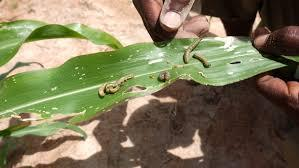fallarmy_worm: (95, 76, 134, 97), (182, 35, 199, 64), (153, 69, 169, 81)
